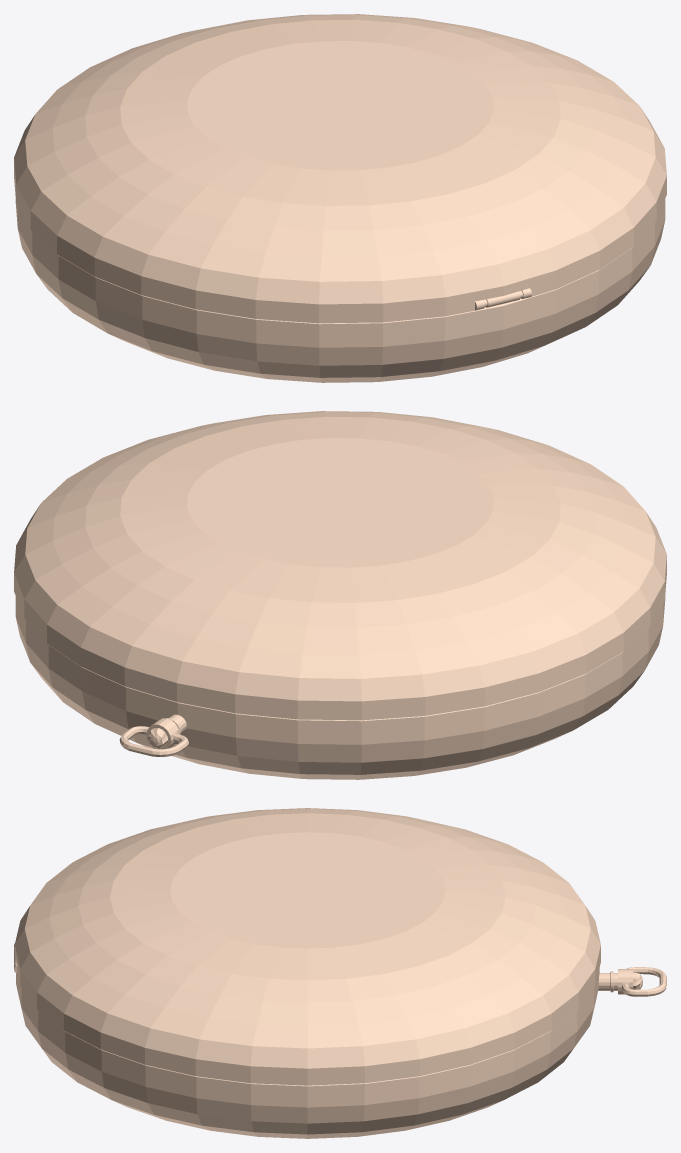
The model's file is pocket_watch.fbx.
The picture shows the model from 3 angles, top to bottom: view 1: azimuth 30°, elevation 25°; view 2: azimuth 150°, elevation 25°; view 3: azimuth 270°, elevation 25°; orthographic projection. The views are drawn at different scales.
Parts seen in each view (by area): view 1: cover, watch; view 2: cover, watch, ring, crown; view 3: cover, watch, crown, ring.
Boxes of the visible parts, box(x1,y1,x2,y2) form: cover: box(14, 14, 666, 323); watch: box(15, 199, 665, 382); cover: box(14, 411, 666, 720); watch: box(15, 596, 665, 779); ring: box(119, 726, 188, 756); crown: box(146, 714, 186, 749); cover: box(14, 808, 600, 1085); watch: box(16, 968, 599, 1138); crown: box(598, 969, 633, 994); ring: box(622, 967, 666, 996).
Bounding box in the file's own units: 201 × 55.43 × 224.
